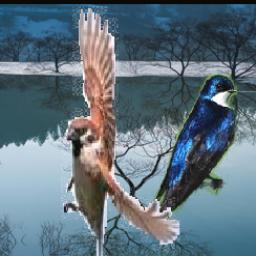Sparrow: (61, 6, 180, 256)
Swallow: (145, 75, 238, 233)
